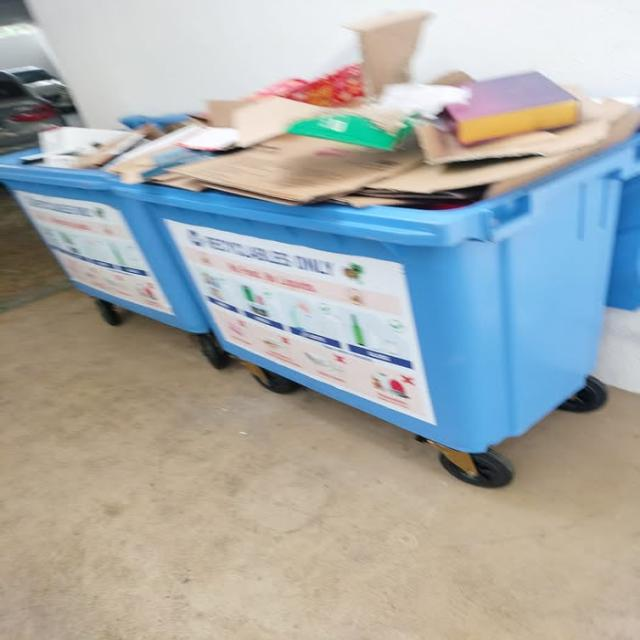bin_full: (131, 120, 629, 457), (0, 124, 218, 333)
bulk_waste: (442, 72, 576, 144), (342, 9, 431, 101)
